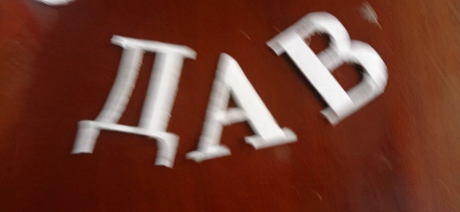a: (187, 53, 298, 165)
d: (70, 34, 198, 169)
v: (267, 12, 389, 128)
